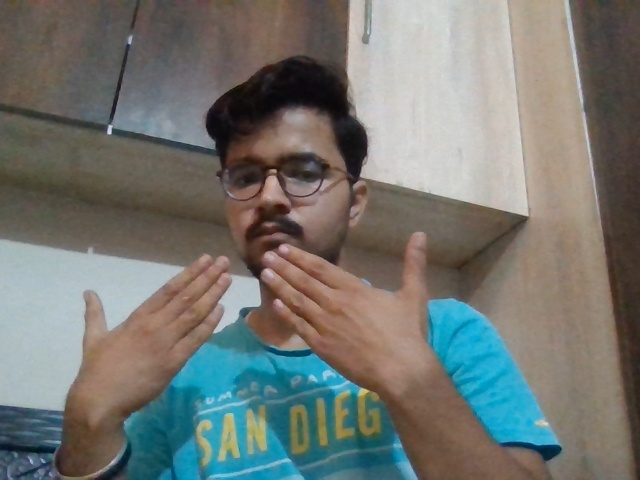thankyou: (50, 242, 469, 421)
